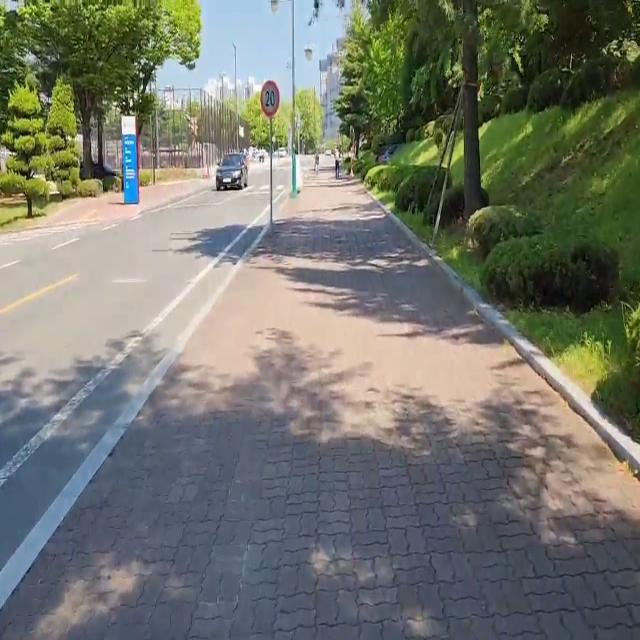car: (214, 147, 252, 192)
streetlamp: (265, 0, 314, 202)
